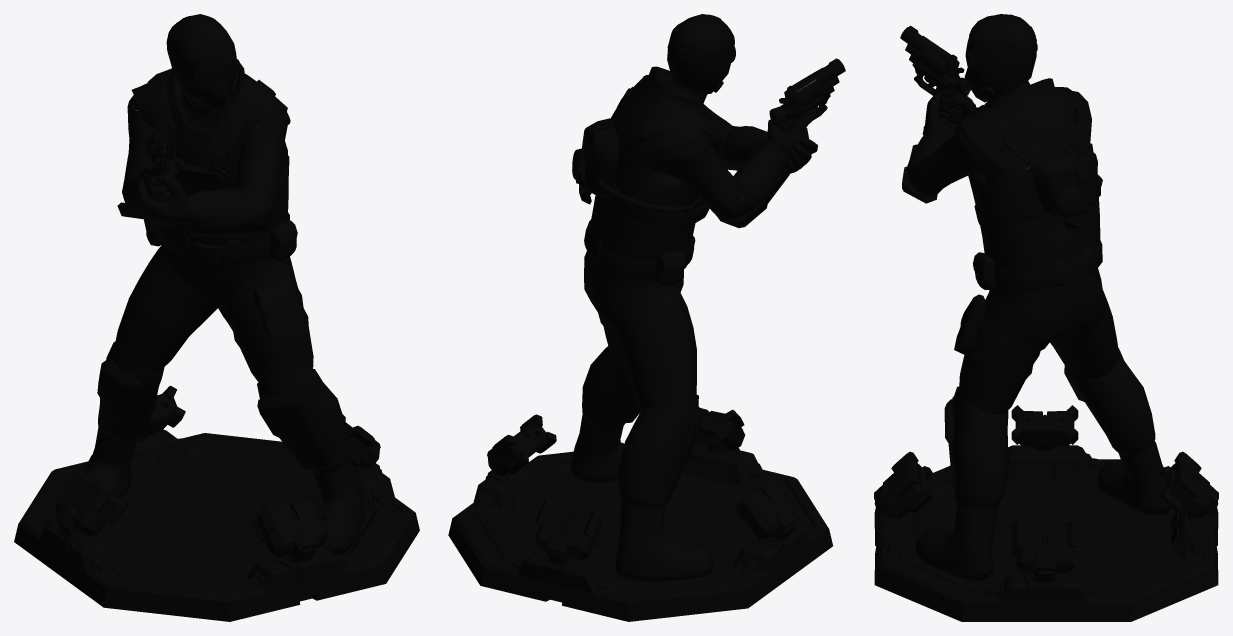
File: HandgunBotSpawner.glb
The picture shows the model from 3 angles, left to right: view 1: azimuth 30°, elevation 25°; view 2: azimuth 150°, elevation 25°; view 3: azimuth 270°, elevation 25°; orthographic projection. The views are drawn at different scales.
Visible parts, largest first — view 1: HandgunBotSpawnerHologram; view 2: HandgunBotSpawnerHologram; view 3: HandgunBotSpawnerHologram.
Boxes of the visible parts, left/top/right/bottom form: HandgunBotSpawnerHologram: left=14, top=14, right=419, bottom=621; HandgunBotSpawnerHologram: left=448, top=14, right=845, bottom=621; HandgunBotSpawnerHologram: left=874, top=14, right=1218, bottom=621.
Size of the model in its own units: 1.08 by 1.78 by 1.08.
Materials: 4 (3 with a texture image).
